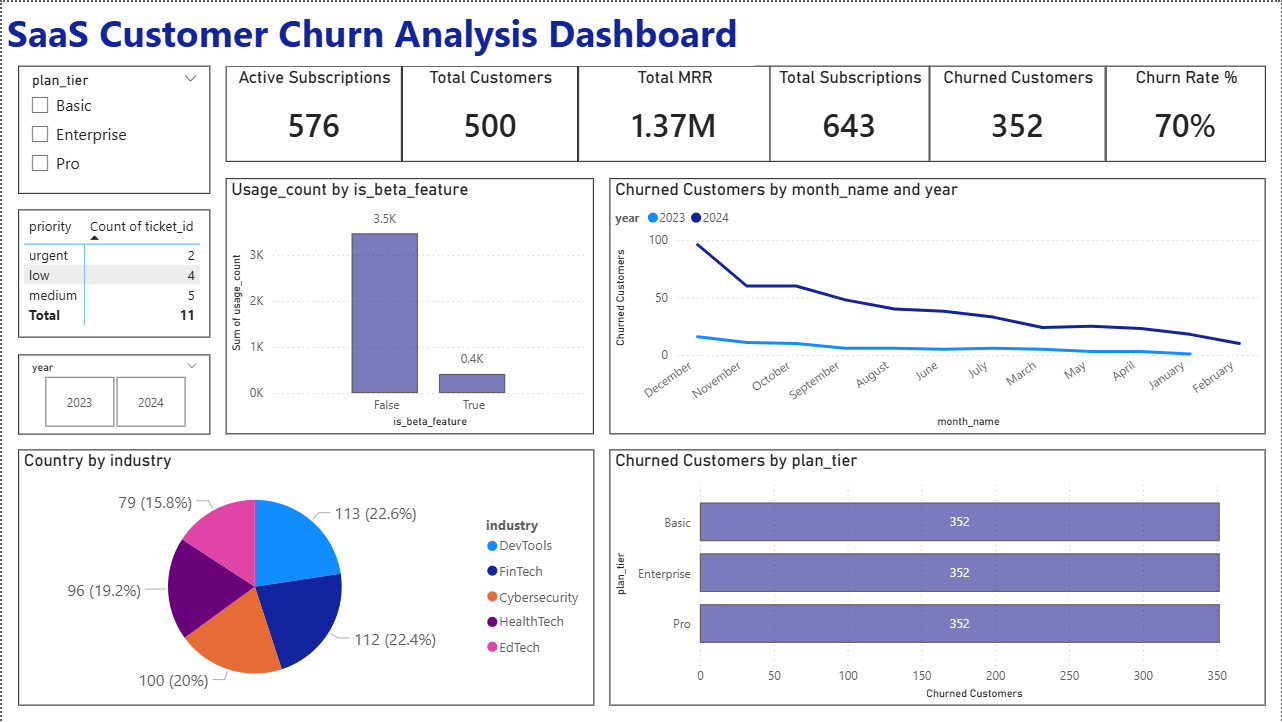

The page's visual inventory and layout, read from the dashboard file:
{"tool":"powerbi","page":{"name":"Page 1","canvas":[1280,720],"ordinal":0},"visuals":[{"type":"cardVisual","title":"Total Customers","fields":{"Data":["_Measures.Total Customers"]},"box":[400,64,176,96],"z":0},{"type":"cardVisual","title":"Total Subscriptions","fields":{"Data":["_Measures.Total Subscriptions"]},"box":[768,64,160,96],"z":1000},{"type":"cardVisual","title":"Active Subscriptions","fields":{"Data":["_Measures.Active Subscriptions"]},"box":[224,64,176,96],"z":2000},{"type":"cardVisual","title":"Total MRR","fields":{"Data":["_Measures.Total MRR"]},"box":[576,64,192,96],"z":3000},{"type":"cardVisual","title":"Churned Customers","fields":{"Data":["_Measures.Churned Customers"]},"box":[928,64,176,96],"z":4000},{"type":"cardVisual","title":"Churn Rate %","fields":{"Data":["_Measures.Churn Rate % (Correct)"]},"box":[1104,64,160,96],"z":5000},{"type":"lineChart","fields":{"Category":["clean dim_date.month_name"],"Y":["_Measures.Churned Customers"],"Series":["clean dim_date.year"]},"box":[608,176,656,256],"z":6000},{"type":"barChart","fields":{"Y":["_Measures.Churned Customers"],"Category":["dim_plans_final.plan_tier"]},"box":[608,448,656,256],"z":7000},{"type":"lineStackedColumnComboChart","title":"Usage_count by is_beta_feature","fields":{"Category":["clean fact_feature_usage.is_beta_feature"],"Y":["Sum(clean fact_feature_usage.usage_count)"]},"box":[224,176,368,256],"z":8000},{"type":"textbox","box":[0,0,752,64],"z":9000},{"type":"slicer","fields":{"Values":["dim_plans_final.plan_tier"]},"box":[16,64,192,128],"z":10000},{"type":"pivotTable","fields":{"Rows":["clean fact_support.priority"],"Values":["CountNonNull(clean fact_support.ticket_id)"]},"box":[16,208,192,128],"z":11000},{"type":"pieChart","title":"Country by industry","fields":{"Category":["clean dim_accounts.industry"],"Y":["CountNonNull(clean dim_accounts.country)"]},"box":[16,448,576,256],"z":12000},{"type":"slicer","fields":{"Values":["clean dim_date.year"]},"box":[16,352,192,80],"z":13000}]}

Visuals, with their boxes in screenshot pixels (x1, y1, x2, y2), scaled from the page's 1280x720 canvas onto the 1282x722 screenshot:
"Total Customers" cardVisual: (left=401, top=64, right=577, bottom=160)
"Total Subscriptions" cardVisual: (left=769, top=64, right=929, bottom=160)
"Active Subscriptions" cardVisual: (left=224, top=64, right=401, bottom=160)
"Total MRR" cardVisual: (left=577, top=64, right=769, bottom=160)
"Churned Customers" cardVisual: (left=929, top=64, right=1106, bottom=160)
"Churn Rate %" cardVisual: (left=1106, top=64, right=1266, bottom=160)
lineChart - clean dim_date.month_name x _Measures.Churned Customers: (left=609, top=176, right=1266, bottom=433)
barChart - _Measures.Churned Customers x dim_plans_final.plan_tier: (left=609, top=449, right=1266, bottom=706)
"Usage_count by is_beta_feature" lineStackedColumnComboChart: (left=224, top=176, right=593, bottom=433)
textbox: (left=0, top=0, right=753, bottom=64)
slicer - dim_plans_final.plan_tier: (left=16, top=64, right=208, bottom=193)
pivotTable - clean fact_support.priority x CountNonNull(clean fact_support.ticket_id): (left=16, top=209, right=208, bottom=337)
"Country by industry" pieChart: (left=16, top=449, right=593, bottom=706)
slicer - clean dim_date.year: (left=16, top=353, right=208, bottom=433)
